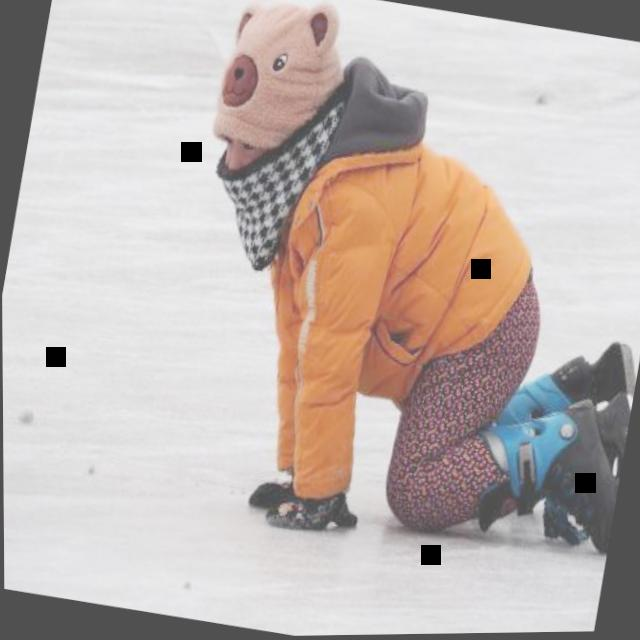Fall-Detected: (117, 0, 640, 596)
